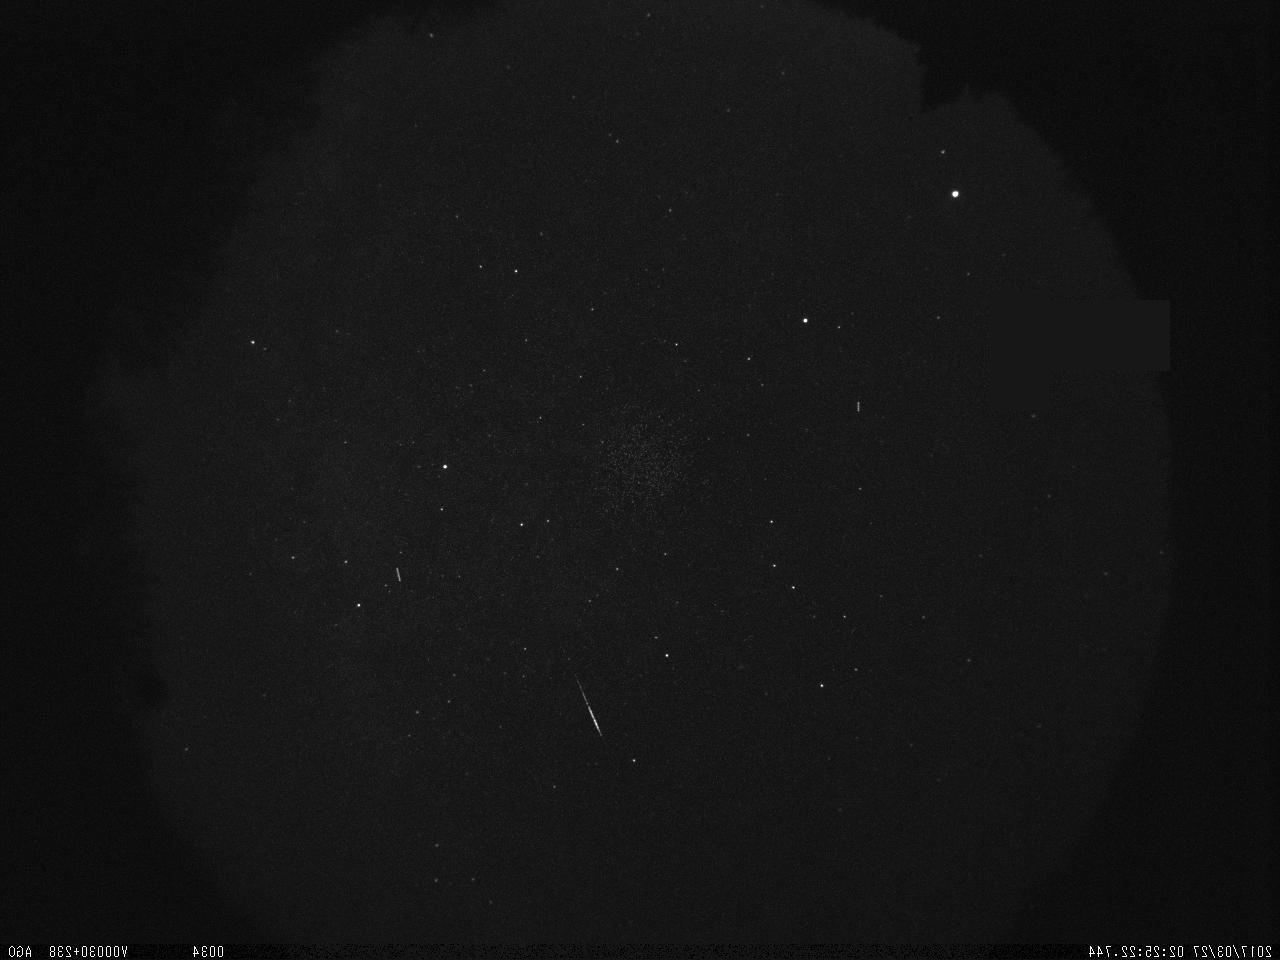meteor: (563, 643, 605, 744)
